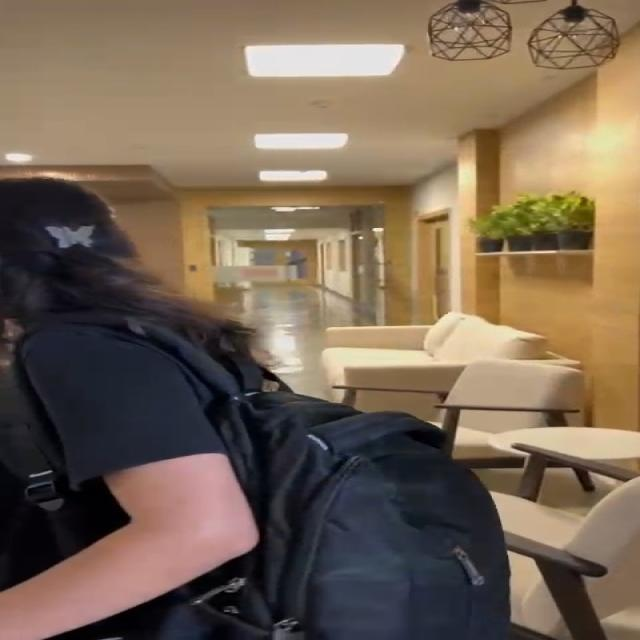moving_object: (5, 193, 372, 640)
